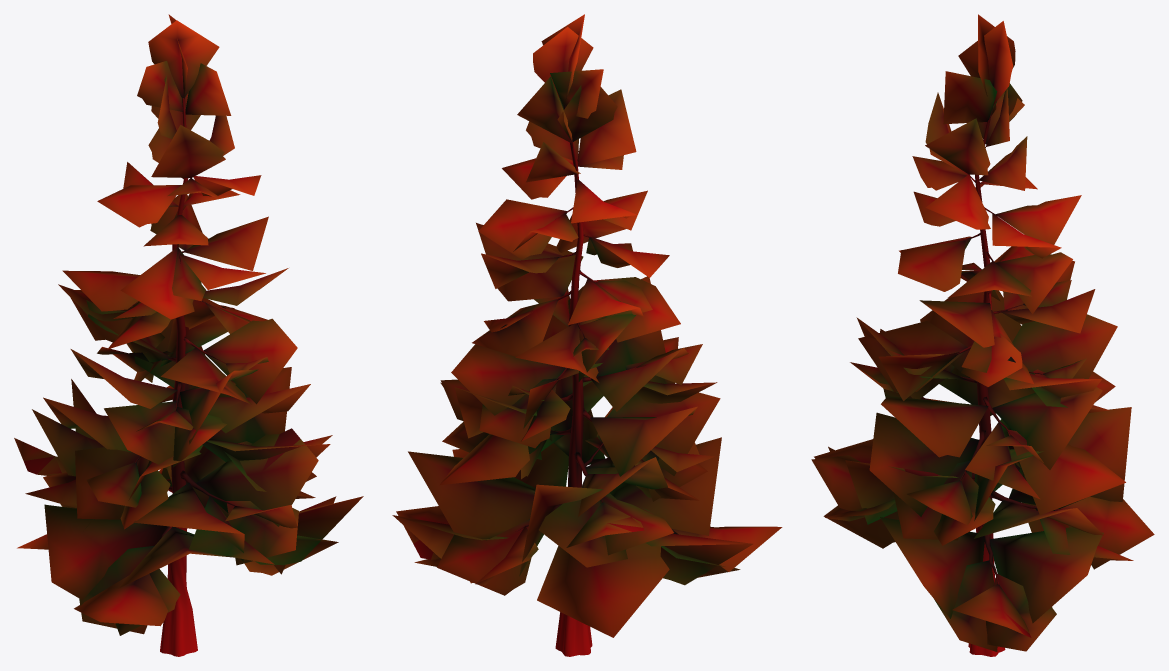
File: SpruceTree_B.fbx
3 views of the same model, side by side, from view 1: azimuth 30°, elevation 25°; view 2: azimuth 150°, elevation 25°; view 3: azimuth 270°, elevation 25° (orthographic).
Parts seen in each view (by area): view 1: STB_Leaves_LOD0, STB_Bark_LOD0; view 2: STB_Leaves_LOD0, STB_Bark_LOD0; view 3: STB_Leaves_LOD0, STB_Bark_LOD0.
Part boxes in pixels (box(x1,y1,x2,y2)): STB_Leaves_LOD0: box(14, 14, 363, 635); STB_Bark_LOD0: box(135, 98, 235, 656); STB_Leaves_LOD0: box(392, 14, 782, 637); STB_Bark_LOD0: box(515, 105, 636, 656); STB_Leaves_LOD0: box(811, 14, 1154, 651); STB_Bark_LOD0: box(955, 107, 1059, 656).
Size of what is drawn, in the model's own units: 12.24 by 23.08 by 11.35.
